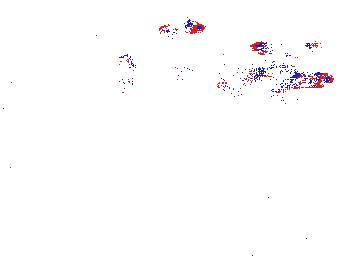X-ray fish: (74, 141, 142, 181), (116, 52, 135, 93)
red belly glassfish: (183, 17, 207, 38), (156, 20, 181, 39)
redtail glassfish: (116, 48, 193, 89), (218, 78, 293, 119), (247, 63, 334, 91), (251, 34, 323, 61)
